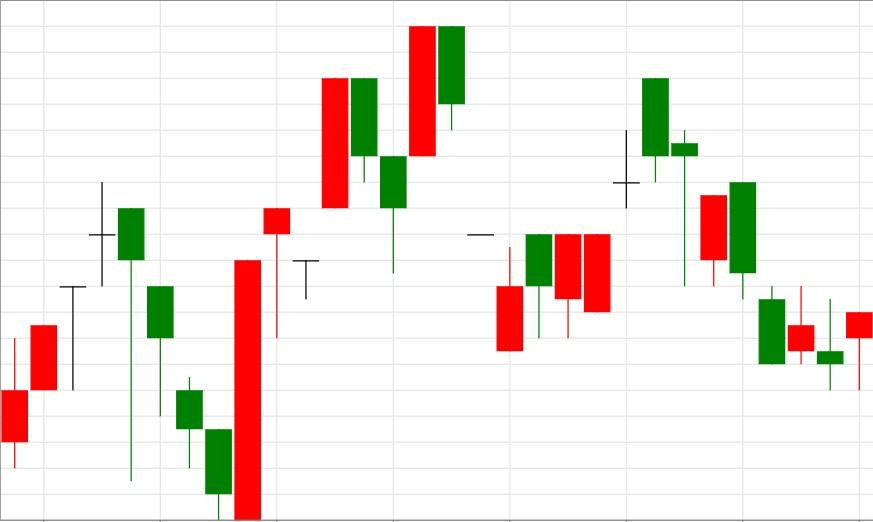bullish_engulfing_rise: (88, 183, 262, 522)
